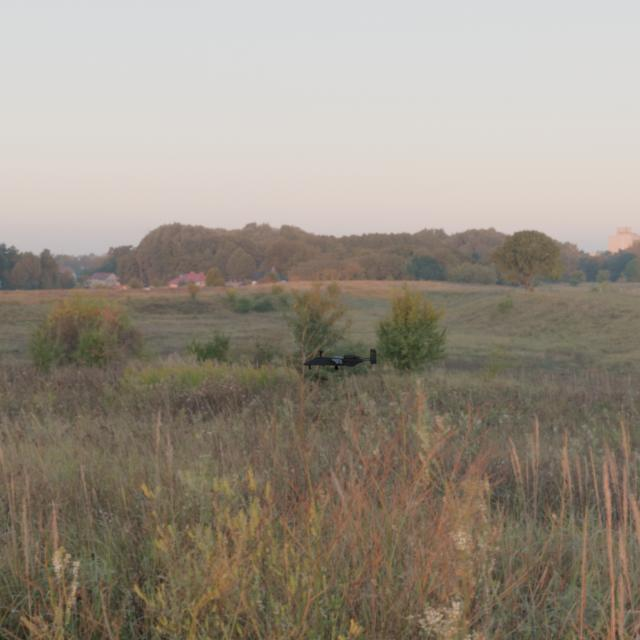Airaplan: (303, 349, 376, 370)
